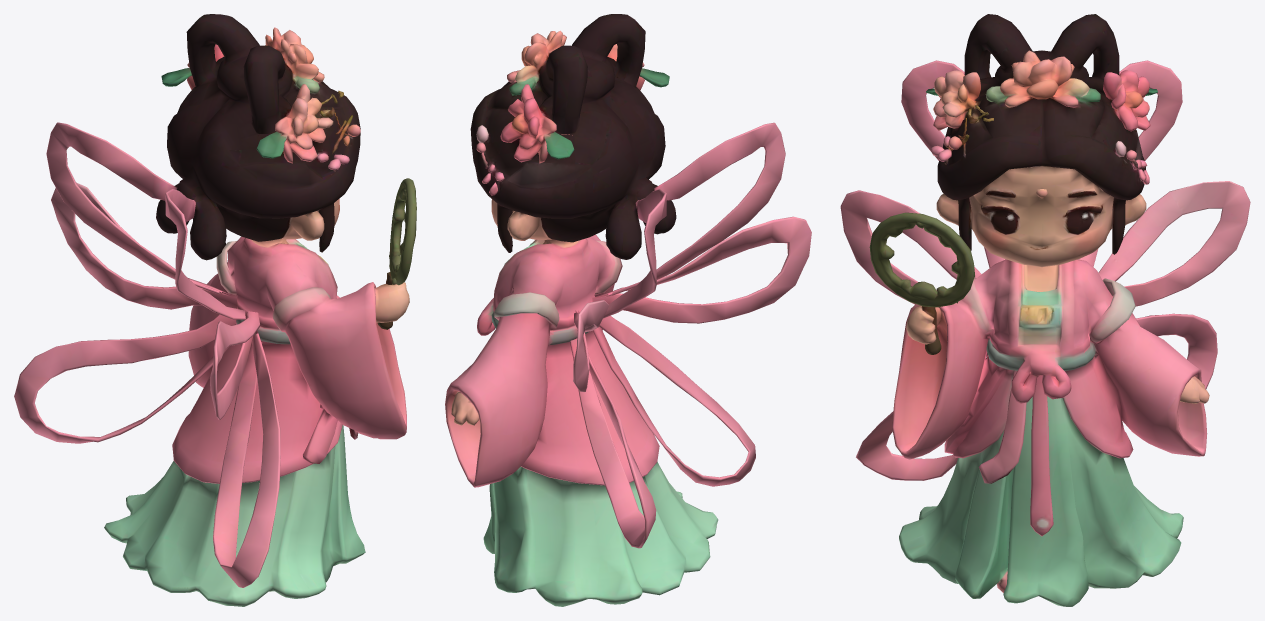
Rendered from baihua.glb.
3 views of the same model, side by side, from view 1: azimuth 30°, elevation 25°; view 2: azimuth 150°, elevation 25°; view 3: azimuth 270°, elevation 25° (orthographic). The views are drawn at different scales.
Visible parts, largest first — view 1: tripo_node_0ea77373-0718-476a-a581-19519c7064dd; view 2: tripo_node_0ea77373-0718-476a-a581-19519c7064dd; view 3: tripo_node_0ea77373-0718-476a-a581-19519c7064dd.
Part boxes in pixels (box(x1,y1,x2,y2)): tripo_node_0ea77373-0718-476a-a581-19519c7064dd: box(14, 14, 416, 606); tripo_node_0ea77373-0718-476a-a581-19519c7064dd: box(445, 14, 811, 606); tripo_node_0ea77373-0718-476a-a581-19519c7064dd: box(840, 14, 1250, 606).
Size of the model in its own units: 0.5362 by 1 by 0.6849.
1 material, 1 textured.
